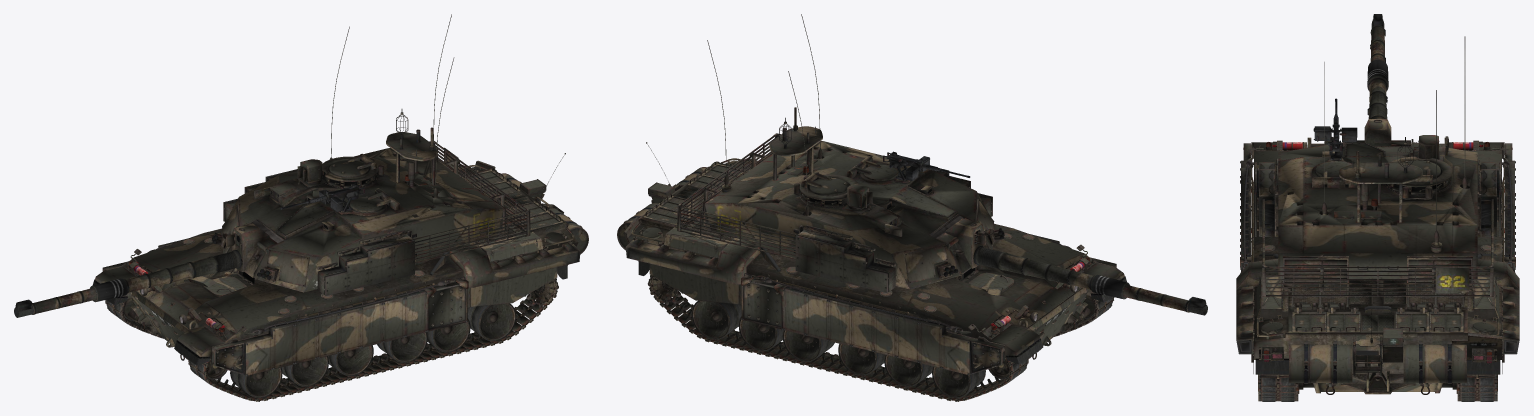
The model's file is challenger2.glb.
The picture shows the model from 3 angles, left to right: view 1: azimuth 30°, elevation 25°; view 2: azimuth 150°, elevation 25°; view 3: azimuth 270°, elevation 25°; orthographic projection. The views are drawn at different scales.
Parts seen in each view (by area): view 1: Object_5, Object_2, Object_13, Object_14, Object_3, Object_10, Object_6, Object_7, Object_12, Object_15; view 2: Object_5, Object_2, Object_13, Object_14, Object_3, Object_10, Object_6, Object_7, Object_12, Object_15, Object_8; view 3: Object_5, Object_3, Object_2, Object_14, Object_12, Object_4, Object_6, Object_13, Object_7, Object_15, Object_8, Object_9 (+1 smaller).
Part boxes in pixels (x1,y1,x2,y2): Object_5: [211, 14, 503, 292]; Object_2: [95, 165, 578, 360]; Object_13: [102, 238, 468, 375]; Object_14: [222, 109, 530, 295]; Object_3: [92, 153, 588, 365]; Object_10: [123, 278, 558, 398]; Object_6: [14, 219, 284, 317]; Object_7: [105, 281, 558, 401]; Object_12: [449, 165, 580, 287]; Object_15: [280, 184, 365, 212]; Object_5: [704, 14, 1004, 289]; Object_2: [628, 158, 1124, 358]; Object_13: [741, 234, 1116, 375]; Object_14: [677, 107, 994, 292]; Object_3: [617, 142, 1126, 364]; Object_10: [647, 274, 1095, 398]; Object_6: [929, 214, 1207, 315]; Object_7: [678, 295, 1114, 401]; Object_12: [625, 158, 760, 284]; Object_15: [883, 151, 970, 181]; Object_8: [648, 278, 693, 320]; Object_5: [1278, 36, 1477, 278]; Object_3: [1246, 137, 1509, 394]; Object_2: [1251, 137, 1504, 394]; Object_14: [1254, 137, 1501, 296]; Object_12: [1236, 258, 1519, 354]; Object_4: [1274, 170, 1481, 282]; Object_6: [1345, 14, 1410, 146]; Object_13: [1240, 143, 1515, 272]; Object_7: [1258, 374, 1497, 401]; Object_15: [1313, 98, 1357, 161]; Object_8: [1457, 374, 1497, 399]; Object_9: [1248, 160, 1509, 261].
Bounding box in the file's own units: 44.25 × 21.01 × 16.56.
5 materials, 5 textured.
